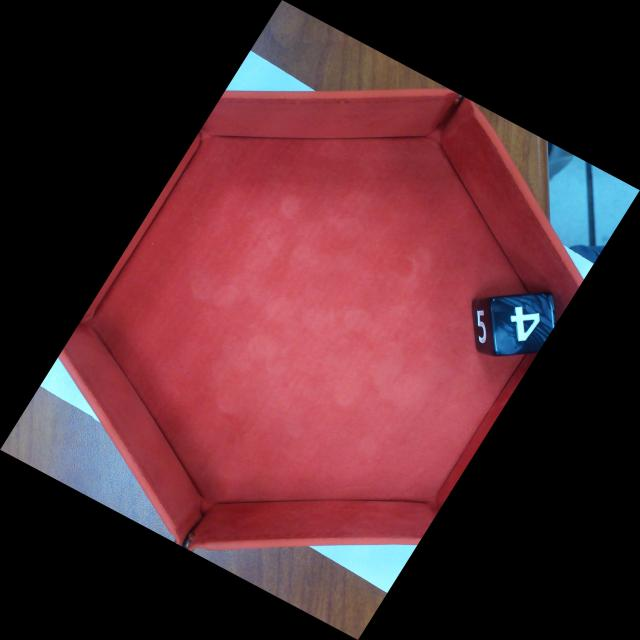dice: (489, 293, 556, 356)
